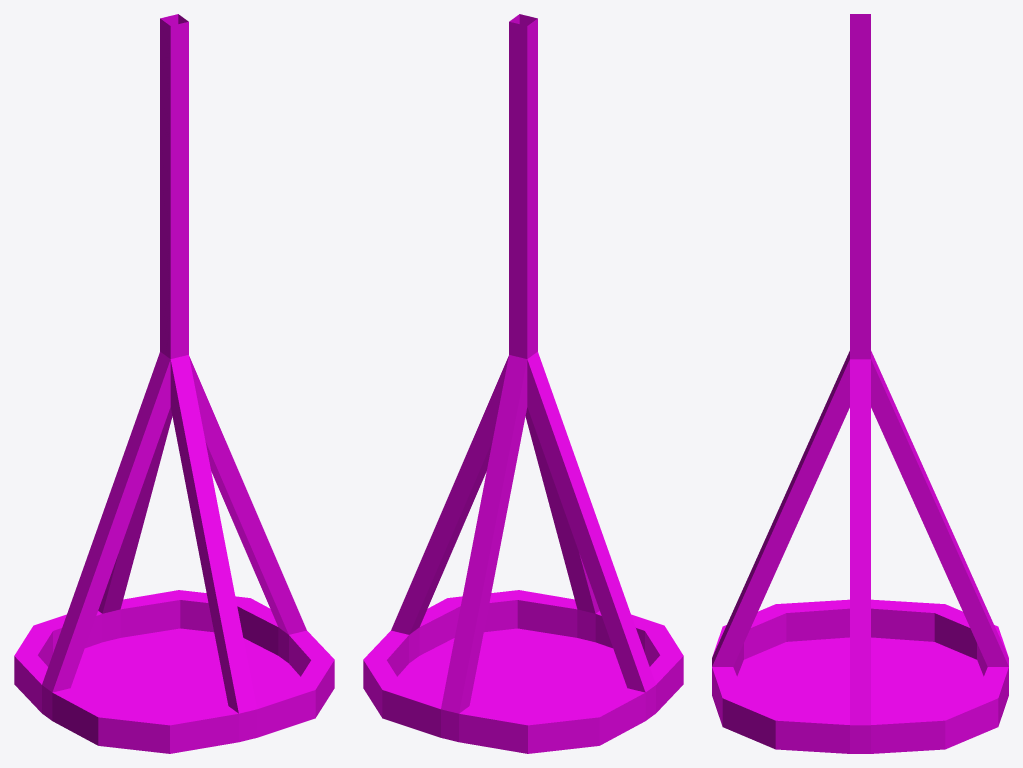
The model's file is liftbed.obj.
3 renders of one model, left to right at view 1: azimuth 30°, elevation 25°; view 2: azimuth 150°, elevation 25°; view 3: azimuth 270°, elevation 25°, orthographic.
Parts seen in each view (by area): view 1: liftbed_back; view 2: liftbed_back; view 3: liftbed_back.
Part boxes in pixels (x1=…): liftbed_back: x1=14, y1=14, x2=334, y2=753; liftbed_back: x1=363, y1=14, x2=683, y2=753; liftbed_back: x1=712, y1=14, x2=1008, y2=753.
Bounding box in the file's own units: 1.12 × 2.8 × 1.12.
